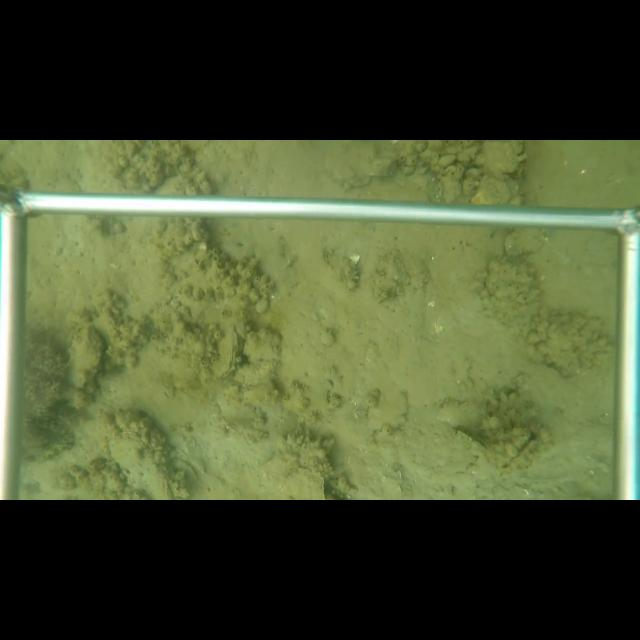Oyster-Closed: (108, 430, 177, 499), (65, 328, 107, 396), (207, 326, 241, 382), (282, 466, 329, 500), (448, 425, 492, 461), (318, 265, 365, 296)
Oyster-Open: (495, 428, 542, 476)
